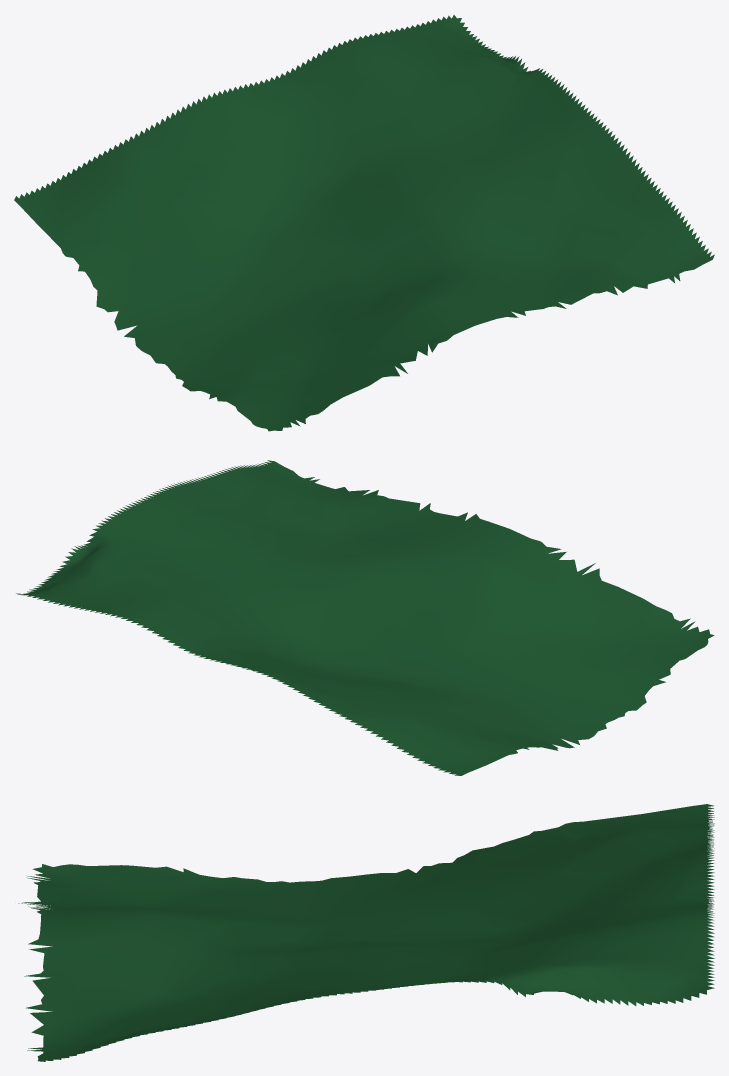
File: payo_land_x2_y2_lod2.glb
3 renders of one model, top to bottom at view 1: azimuth 30°, elevation 25°; view 2: azimuth 150°, elevation 25°; view 3: azimuth 270°, elevation 25°, orthographic. The views are drawn at different scales.
Visible parts, largest first — view 1: payo_land_x2_y2; view 2: payo_land_x2_y2; view 3: payo_land_x2_y2.
Part boxes in pixels (left/top/right/bottom): payo_land_x2_y2: left=14, top=15, right=714, bottom=431; payo_land_x2_y2: left=16, top=460, right=714, bottom=775; payo_land_x2_y2: left=18, top=804, right=714, bottom=1061.
Bounding box in the file's own units: 262 × 78.03 × 267.
